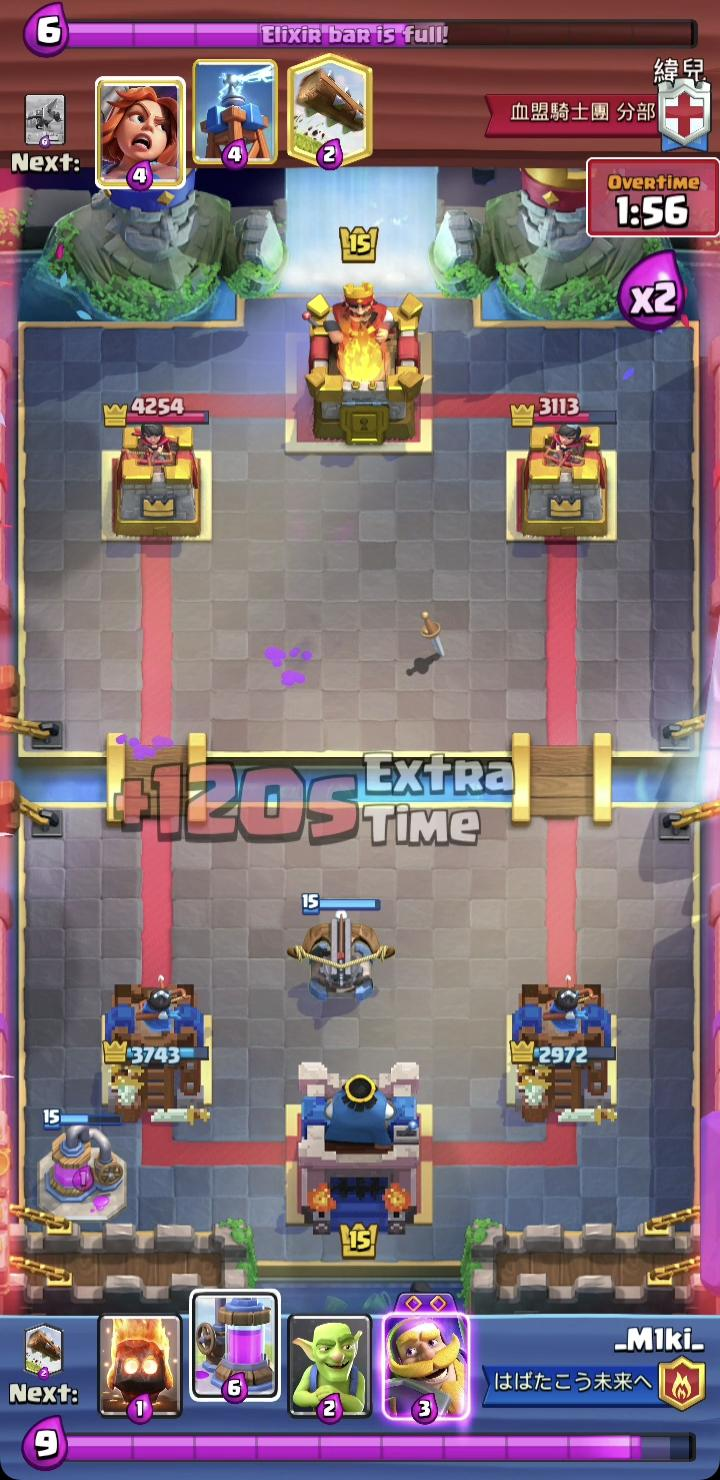ally_elixirpump: (35, 1108, 129, 1223)
ally_xbow: (288, 891, 397, 1000)
enemy_fireball: (337, 320, 392, 389)
